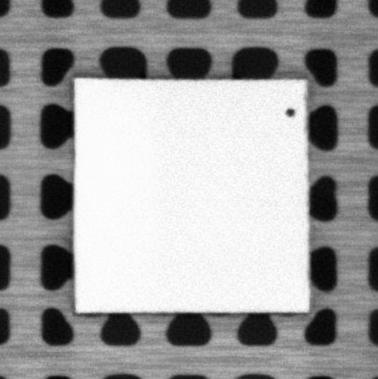DIE_INK: (283, 106, 299, 118)
